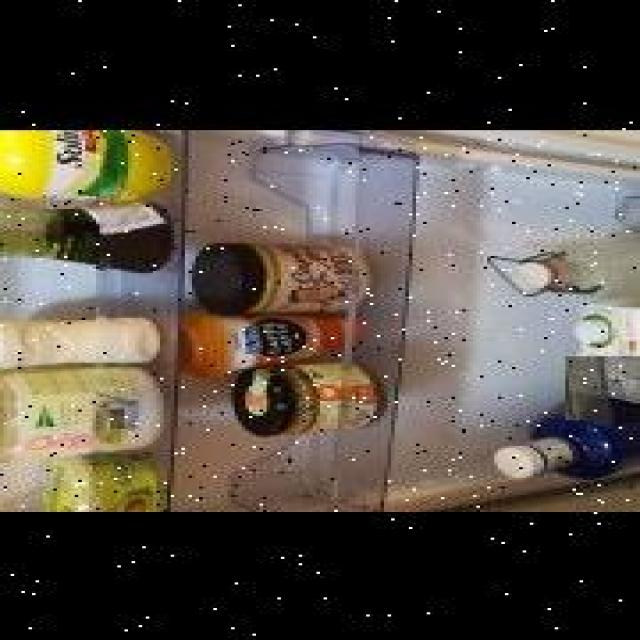guacamole: (36, 463, 167, 512)
milk: (569, 286, 640, 360), (565, 352, 640, 416)
